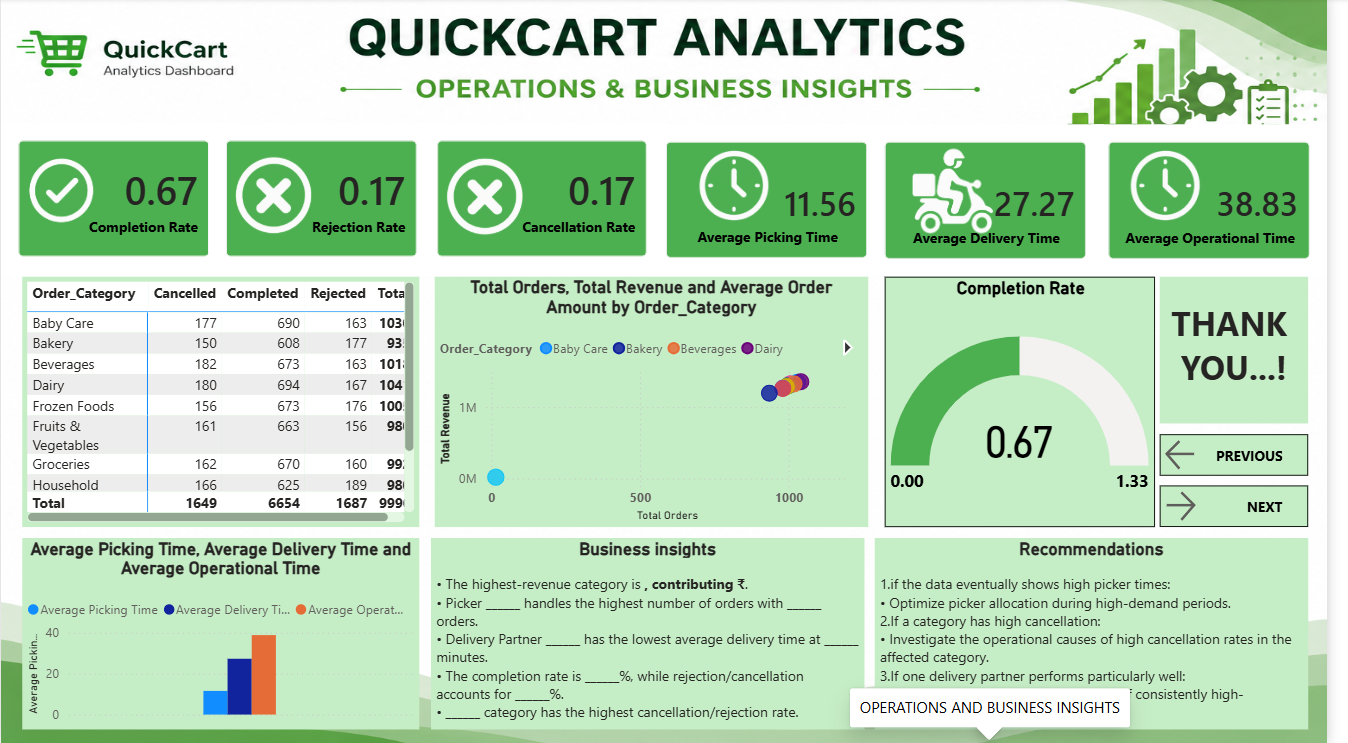

The page's visual inventory and layout, read from the dashboard file:
{"tool":"powerbi","page":{"name":"OPERATIONS AND BUSINESS INSIGHTS","canvas":[1280,720],"ordinal":4},"visuals":[{"type":"cardVisual","fields":{"Data":["All Measures.Completion Rate"]},"box":[0,120.8,218.2,146.8],"z":0},{"type":"image","box":[0,137.7,109.1,113],"z":1000},{"type":"cardVisual","fields":{"Data":["All Measures.Rejection Rate"]},"box":[200,120.8,218.2,146.8],"z":2000},{"type":"image","box":[200,148.1,119.4,91.7],"z":3000},{"type":"cardVisual","fields":{"Data":["All Measures.Cancellation Rate"]},"box":[403.9,120.8,236.4,146.8],"z":4000},{"type":"image","box":[403.9,149.4,119.4,91.7],"z":5000},{"type":"cardVisual","fields":{"Data":["All Measures.Average Picking Time"]},"box":[624.7,122.1,228.6,146.8],"z":6000},{"type":"image","box":[649.4,137.7,122.1,90.9],"z":7000},{"type":"cardVisual","fields":{"Data":["All Measures.Average Delivery Time"]},"box":[836.4,122.1,228,147.2],"z":8000},{"type":"image","box":[853.2,137.7,128.6,115.6],"z":9000},{"type":"cardVisual","fields":{"Data":["All Measures.Average Operational Time"]},"box":[1051.9,122.1,228,147.2],"z":10000},{"type":"image","box":[1064.9,137.7,122.1,90.9],"z":11000},{"type":"pivotTable","fields":{"Rows":["quickcartdb store_orders.Order_Category"],"Columns":["quickcartdb store_orders.Order_Status"],"Values":["All Measures.Total Orders"]},"box":[20.8,268.8,383.1,241.6],"z":12000},{"type":"scatterChart","fields":{"X":["All Measures.Total Orders"],"Size":["All Measures.Average Order Amount"],"Y":["All Measures.Total Revenue"],"Series":["quickcartdb store_orders.Order_Category"]},"box":[418.2,268.8,418.2,241.6],"z":13000},{"type":"gauge","fields":{"Y":["All Measures.Completion Rate"]},"box":[853.2,268.8,261,241.6],"z":14000},{"type":"clusteredColumnChart","fields":{"Y":["All Measures.Average Picking Time","All Measures.Average Delivery Time","All Measures.Average Operational Time"]},"box":[20.8,520.8,383.1,184.4],"z":15000},{"type":"textbox","title":"Business insights","box":[415.6,520.8,418.2,184.4],"z":16000},{"type":"textbox","title":"Recommendations","box":[842.9,520.8,418.2,184.4],"z":17000},{"type":"actionButton","box":[1118.2,420.8,142.9,40.3],"z":18000},{"type":"actionButton","box":[1118.2,470.1,142.9,40.3],"z":19000},{"type":"textbox","box":[1118.2,268.8,142.9,141.6],"z":20000}]}

Visuals, with their boxes in screenshot pixels (x1, y1, x2, y2), scaled from the page's 1280x720 canvas onto the 1348x743 screenshot:
cardVisual - All Measures.Completion Rate: <box>0,125,230,276</box>
image: <box>0,142,115,259</box>
cardVisual - All Measures.Rejection Rate: <box>211,125,440,276</box>
image: <box>211,153,336,247</box>
cardVisual - All Measures.Cancellation Rate: <box>425,125,674,276</box>
image: <box>425,154,551,249</box>
cardVisual - All Measures.Average Picking Time: <box>658,126,899,277</box>
image: <box>684,142,812,236</box>
cardVisual - All Measures.Average Delivery Time: <box>881,126,1121,278</box>
image: <box>899,142,1034,261</box>
cardVisual - All Measures.Average Operational Time: <box>1108,126,1347,278</box>
image: <box>1121,142,1250,236</box>
pivotTable - quickcartdb store_orders.Order_Category x quickcartdb store_orders.Order_Status: <box>22,277,425,527</box>
scatterChart - All Measures.Total Orders x All Measures.Average Order Amount: <box>440,277,881,527</box>
gauge - All Measures.Completion Rate: <box>899,277,1173,527</box>
clusteredColumnChart - All Measures.Average Picking Time x All Measures.Average Delivery Time: <box>22,537,425,728</box>
"Business insights" textbox: <box>438,537,878,728</box>
"Recommendations" textbox: <box>888,537,1328,728</box>
actionButton: <box>1178,434,1328,476</box>
actionButton: <box>1178,485,1328,527</box>
textbox: <box>1178,277,1328,424</box>
